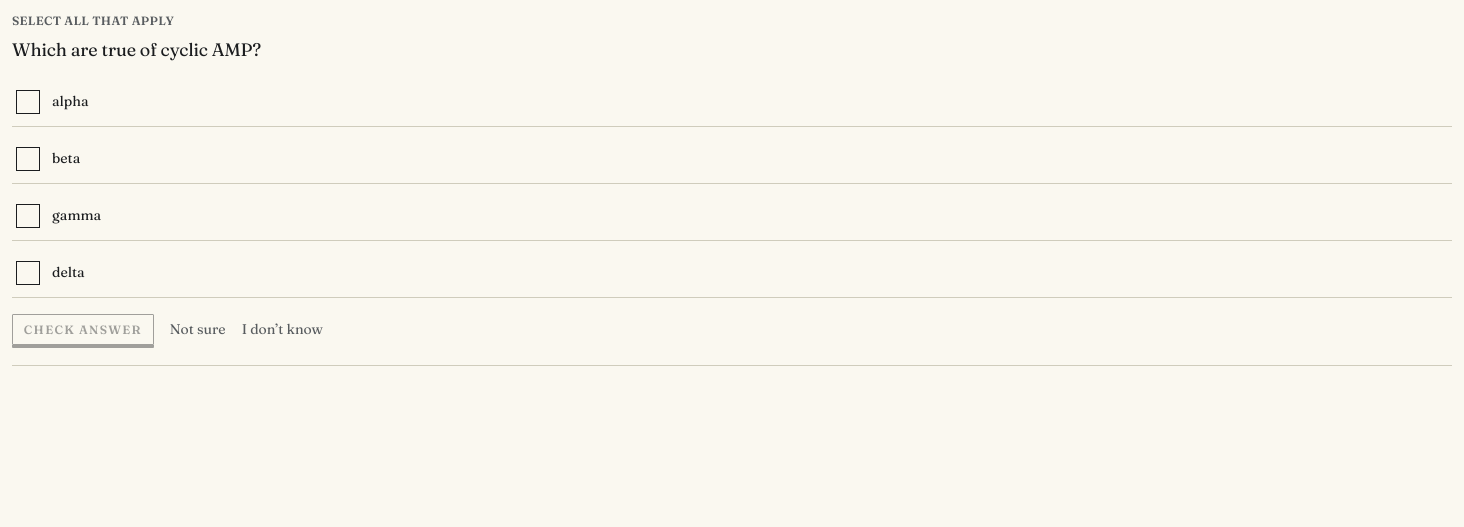
it: MultiCard › counts a false statement ticked as a miss, and says why it is wrong
Click the checkbox "alpha".
click(70, 101)  # box [12, 78, 1452, 127]
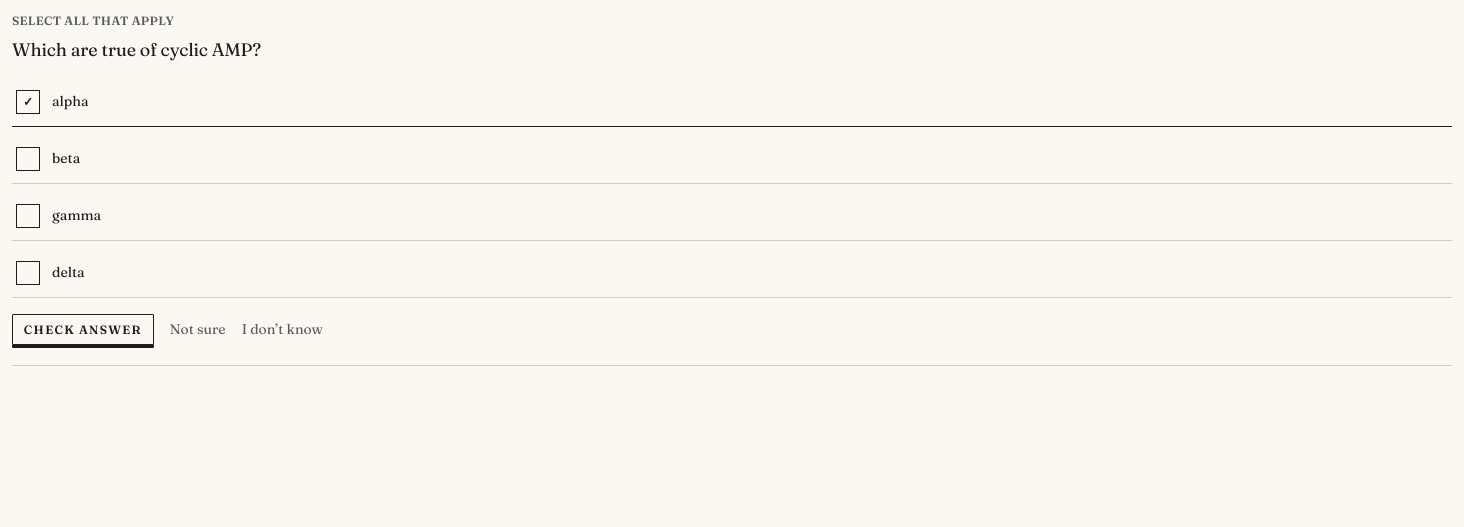
Click the checkbox "beta".
click(28, 159)  # box [12, 135, 1452, 184]
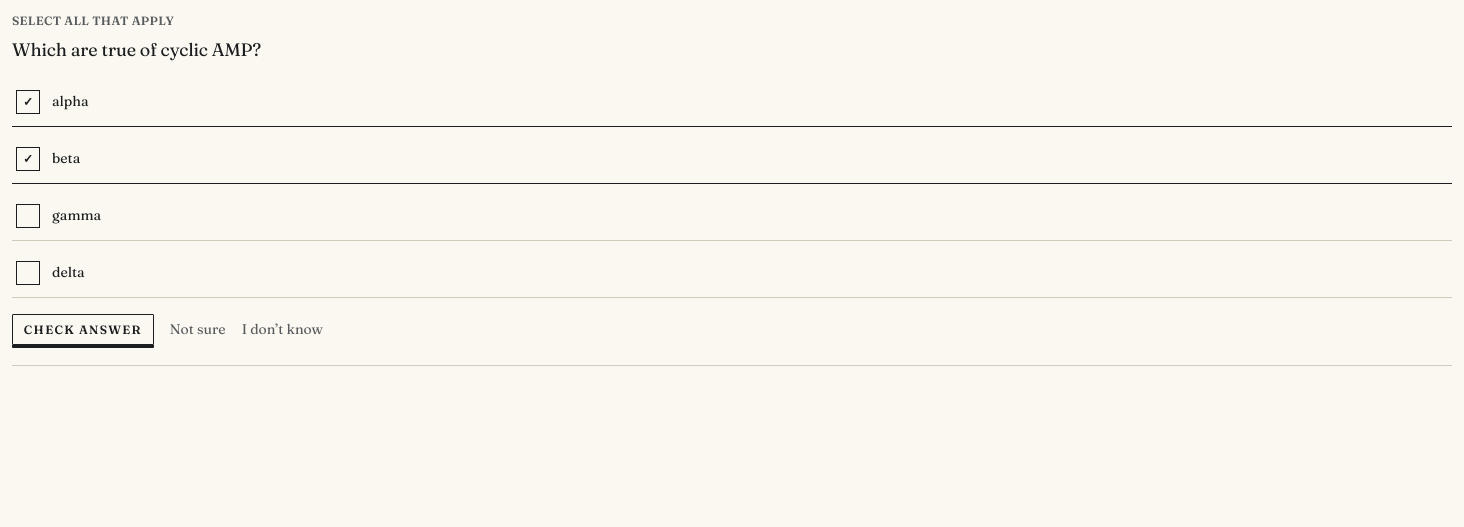
Click the checkbox "gamma".
click(77, 215)  # box [12, 192, 1452, 241]
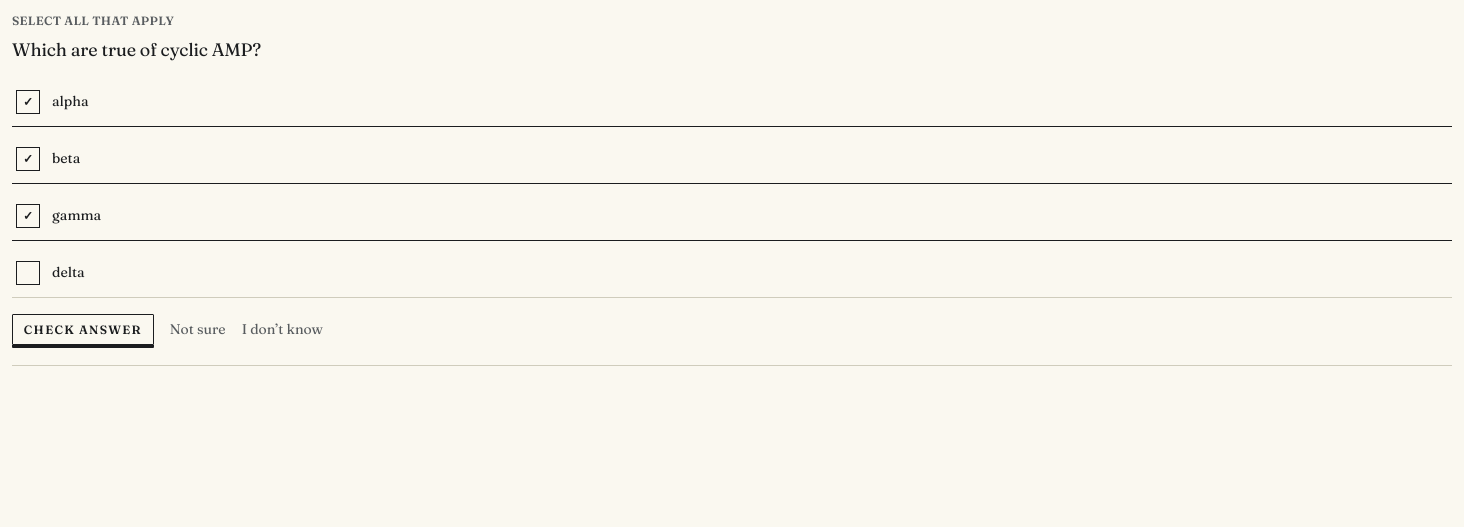
Click the button "Check answer".
click(83, 330)  # box [12, 314, 154, 346]
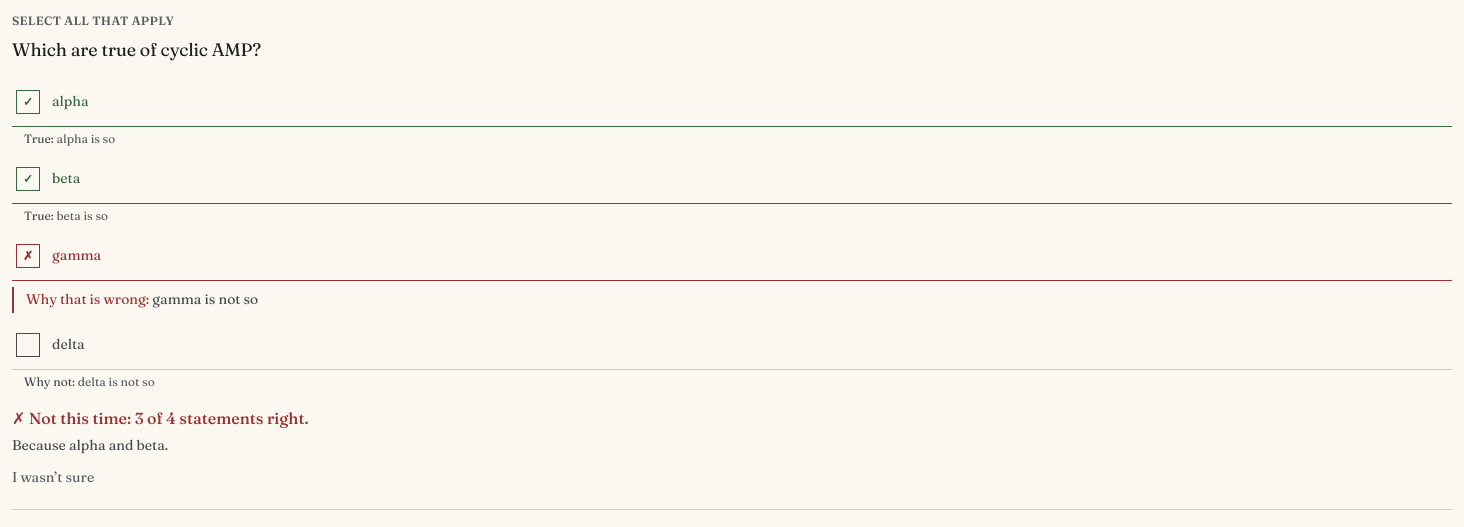
Check: the text "✗ Not this time: 3 of 4 statements right." is shown, box [12, 408, 308, 428]
Check: the text "gamma is not so" reads "Why that is wrong: gamma is not so", box [12, 287, 1452, 313]
Check: the text "Because alpha and beta." is shown, box [12, 436, 168, 454]
